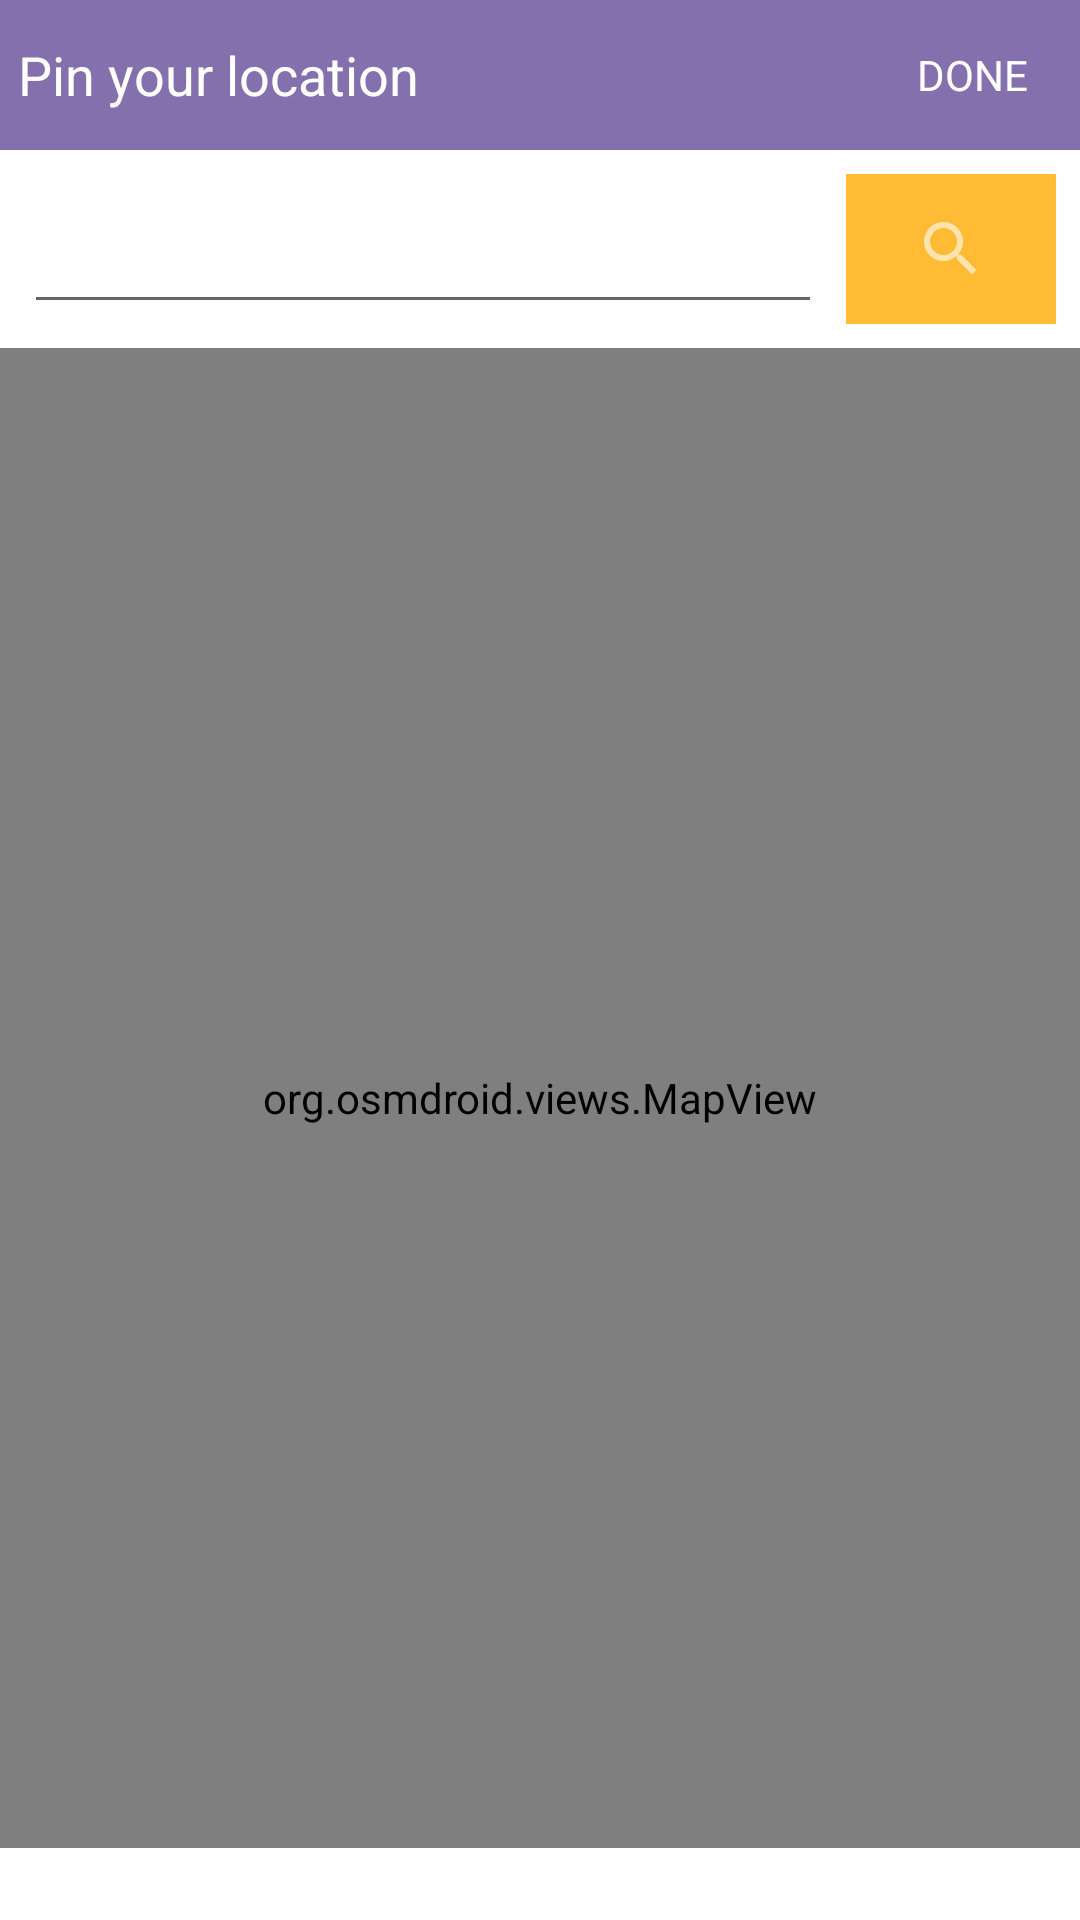

Screen size 1080px×1920px. Icon name, then its center in pixels as [x,y]:
search: [951,249]
